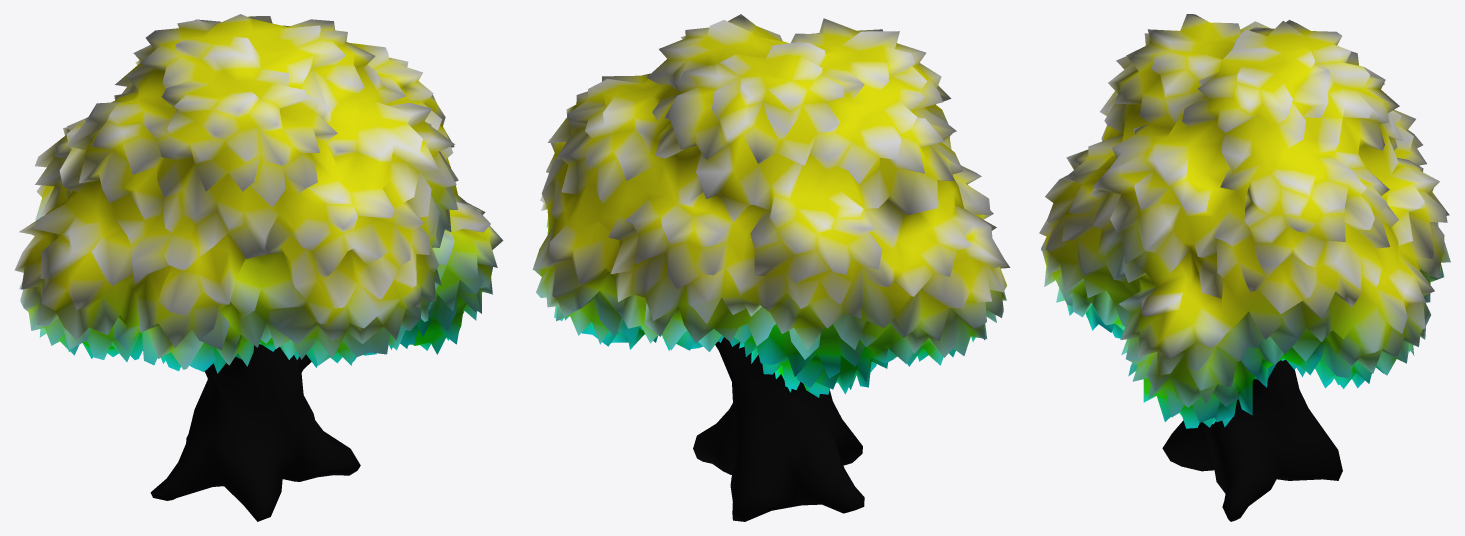
Rendered from M_Oak01.fbx.
3 views of the same model, side by side, from view 1: azimuth 30°, elevation 25°; view 2: azimuth 150°, elevation 25°; view 3: azimuth 270°, elevation 25° (orthographic). The views are drawn at different scales.
Visible parts, largest first — view 1: M_Oak01_LOD0; view 2: M_Oak01_LOD0; view 3: M_Oak01_LOD0.
Boxes of the visible parts, <box> form: M_Oak01_LOD0: <box>14,14,503,521</box>; M_Oak01_LOD0: <box>532,14,1010,521</box>; M_Oak01_LOD0: <box>1039,14,1450,521</box>.
Size of what is drawn, in the model's own units: 1.99 by 1.97 by 1.69.
